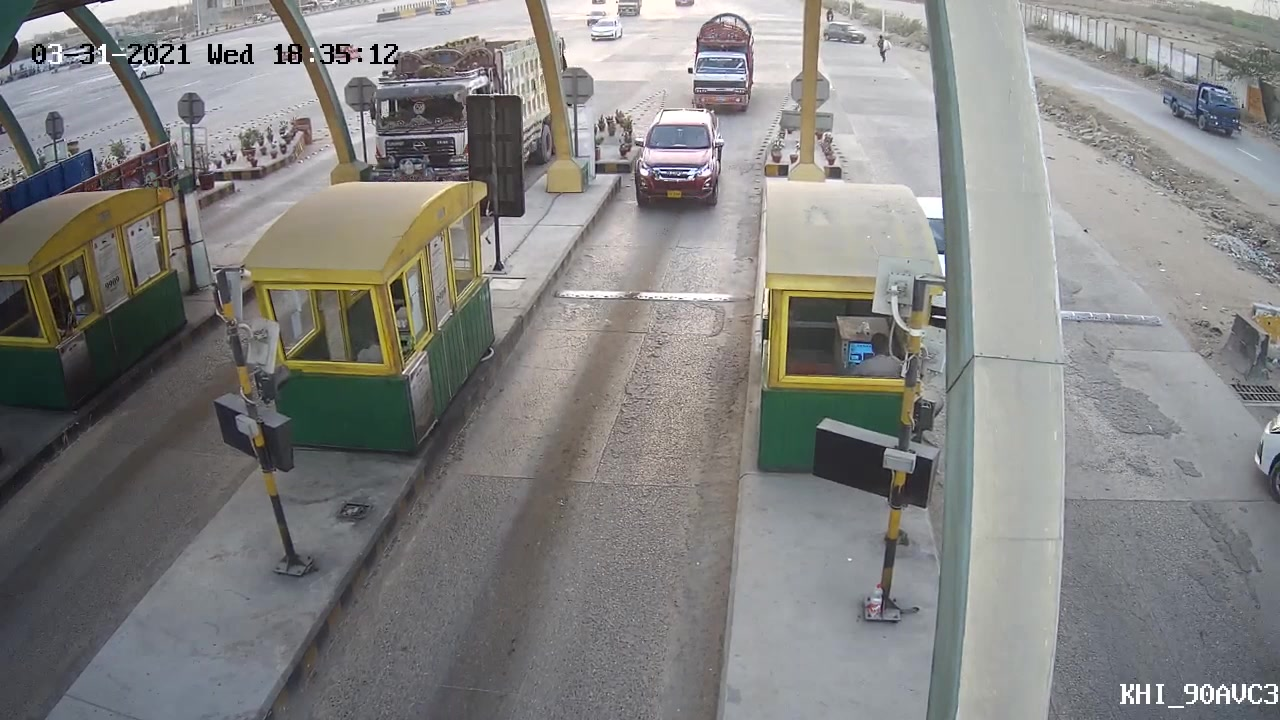F1: (624, 104, 729, 212)
